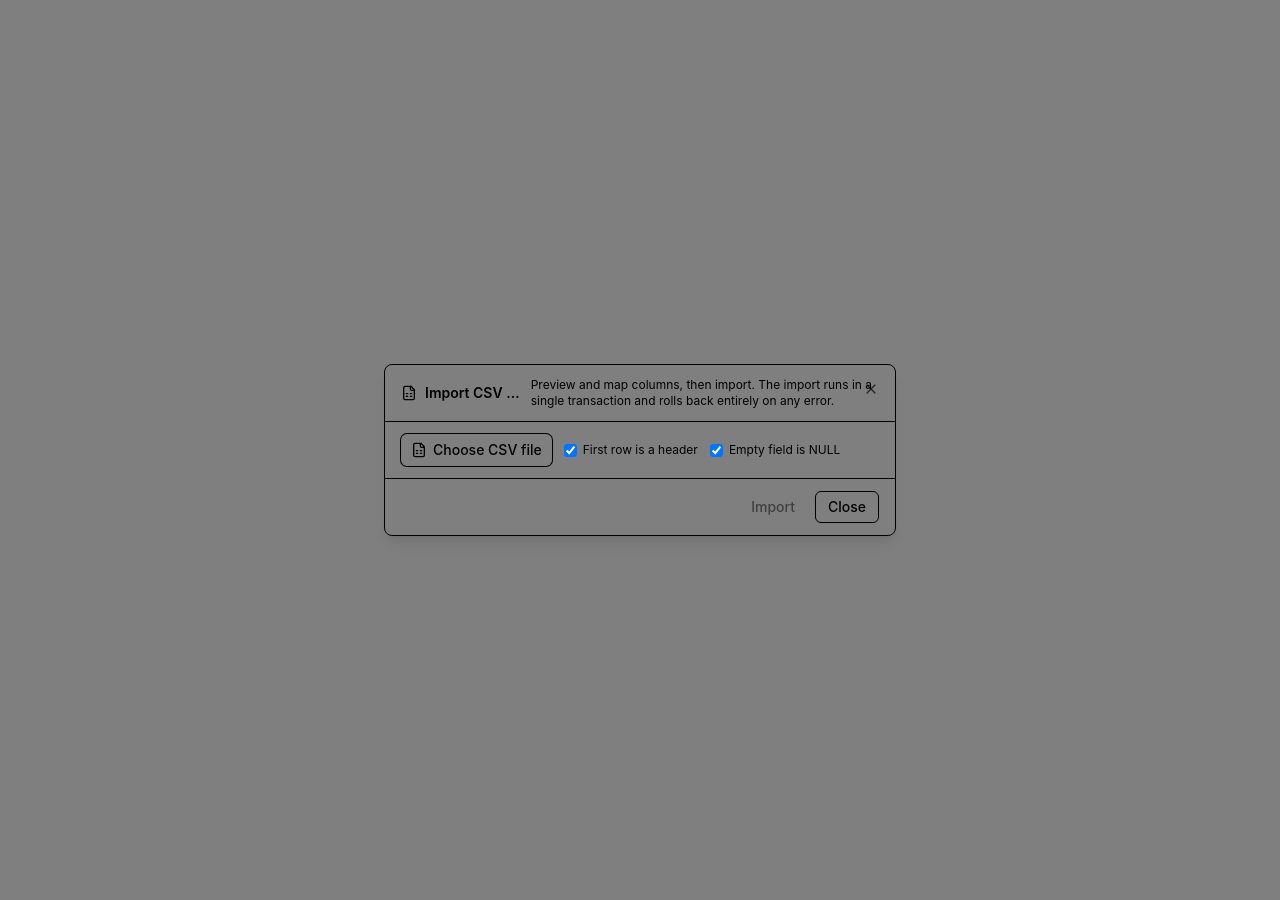
Test: ImportCsvDialog › commits the mapping through build + executeQueryBatch after confirm
The image size is (1280, 900).
Click the button with aria-label "choose a csv file" at [476, 450], box [401,434,552,466]
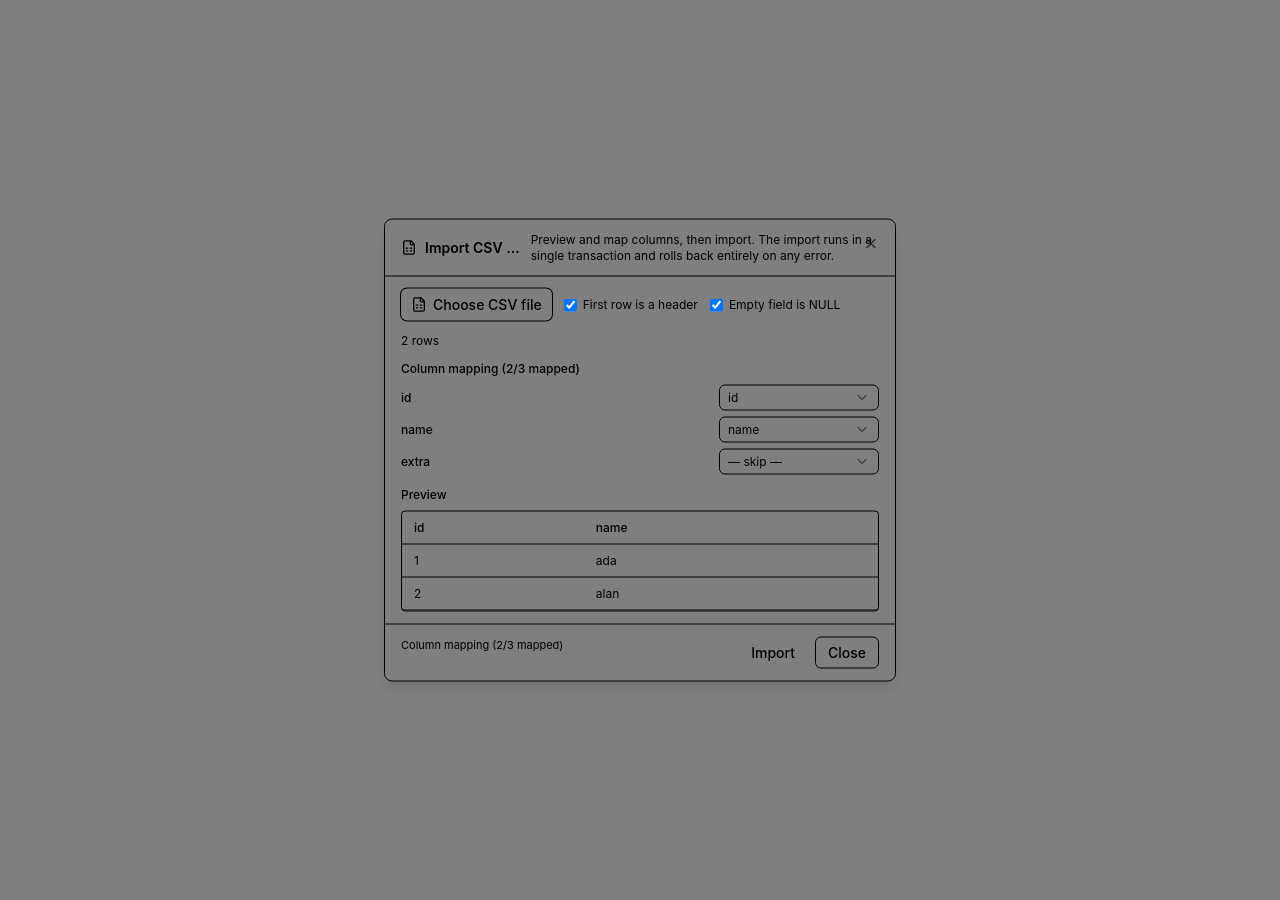
Check: the text "2 rows" is shown, box [401,332,439,348]
Click the button "Import" at [773, 652], box [739,636,807,668]
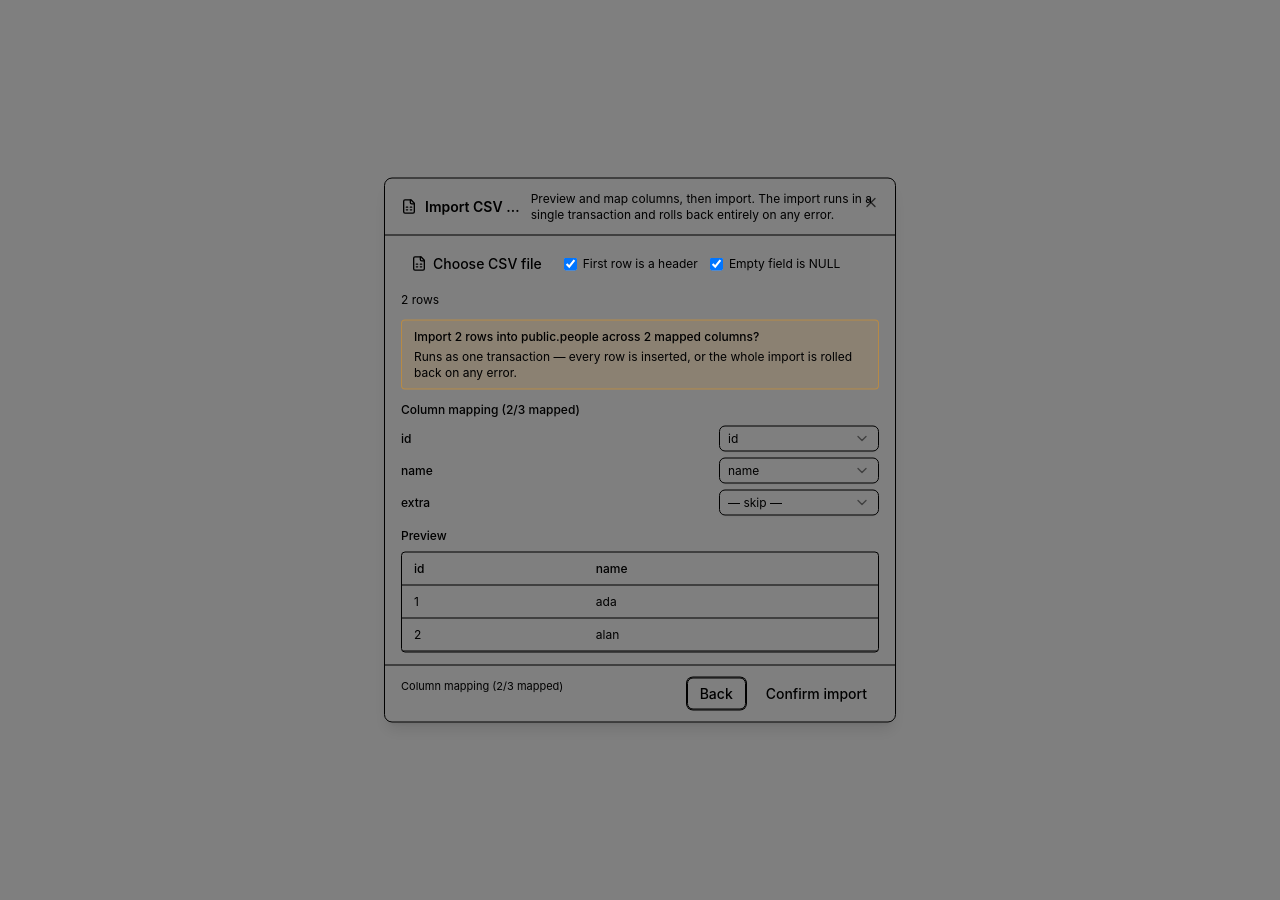
Check: the text "one transaction" is shown, box [414,348,852,380]
Click the button "Confirm import" at [816, 694], box [754,678,879,710]
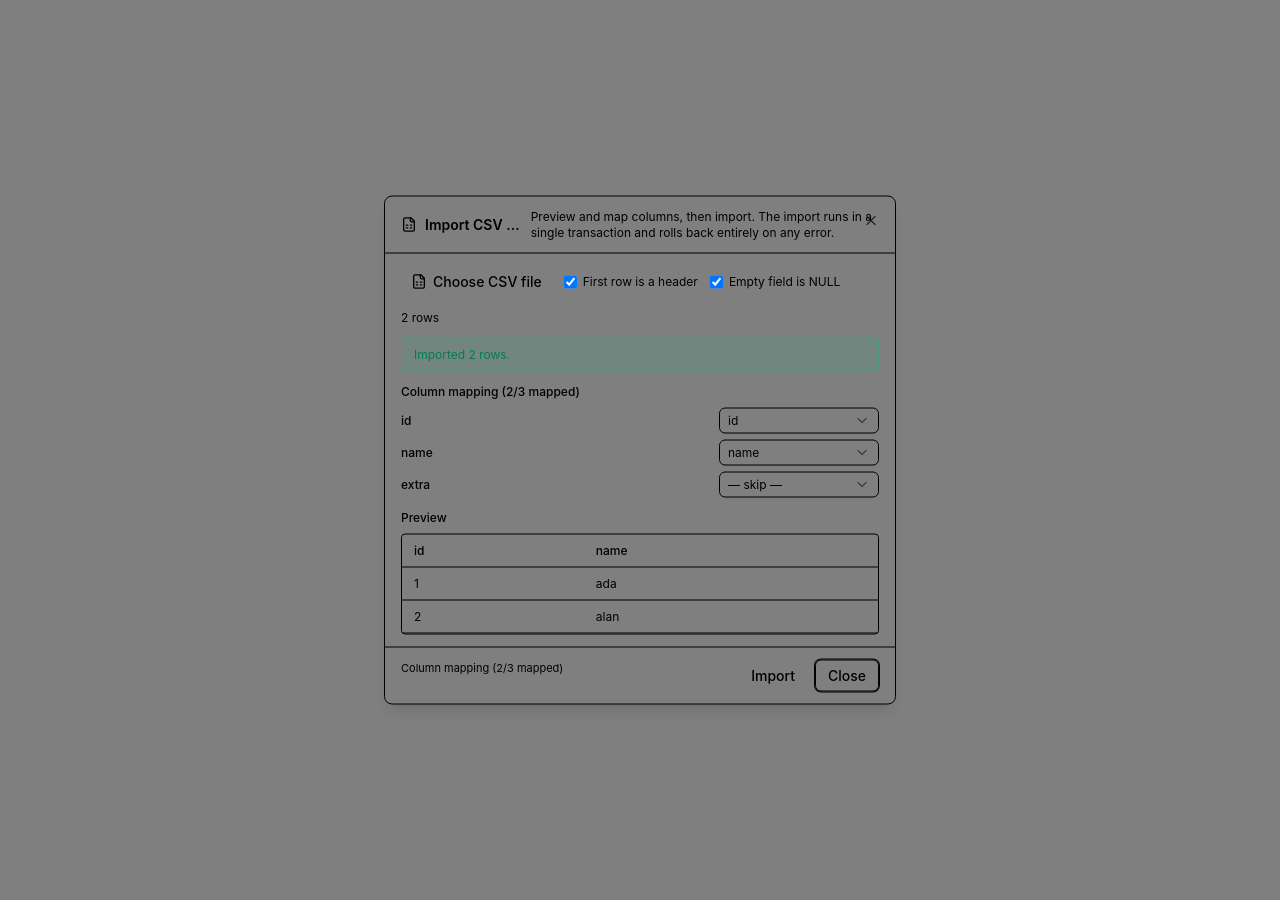
Check: the text "Imported 2 rows." is shown, box [401,338,879,372]
